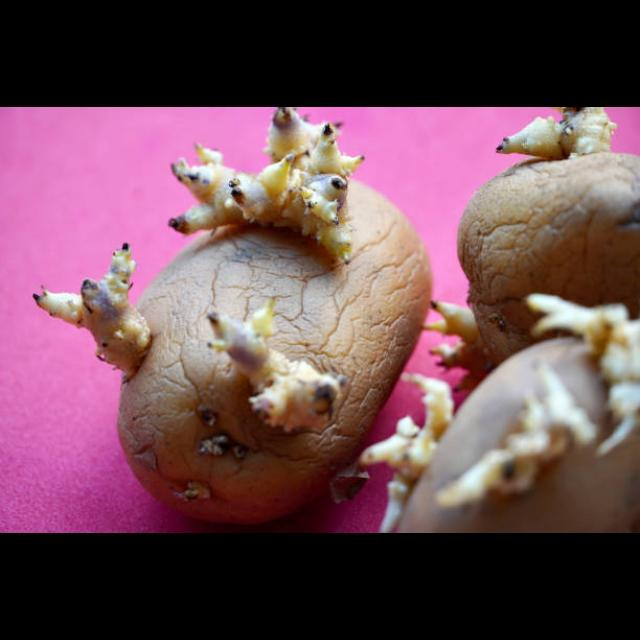Sprouted potato: (32, 111, 434, 534), (342, 290, 638, 532), (452, 138, 640, 360)
